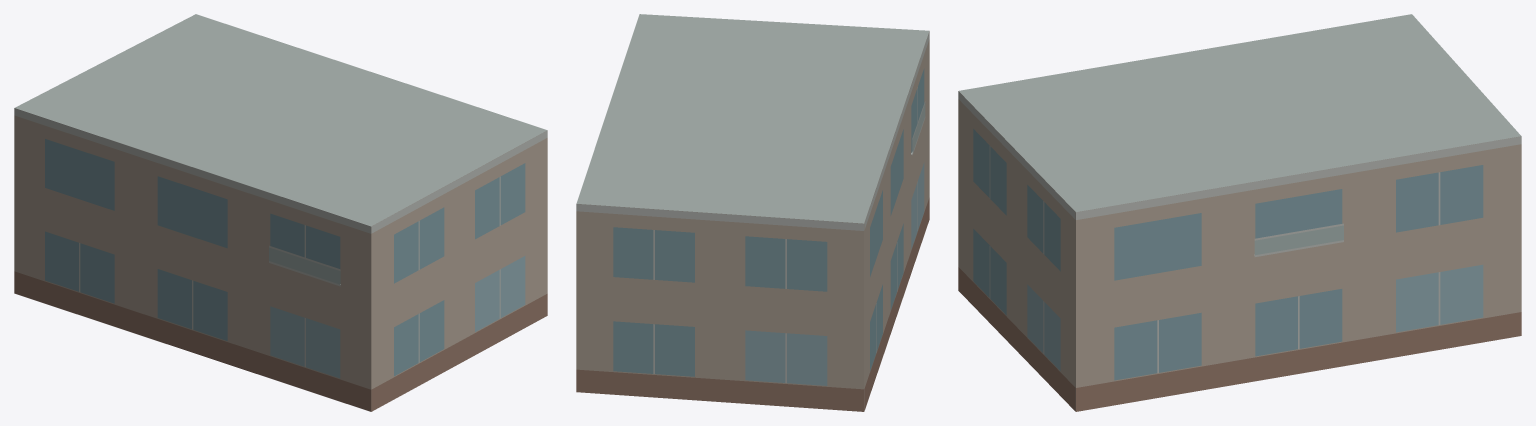
Rendered from survey-upis-33000437.glb.
3 views of the same model, side by side, from view 1: azimuth 30°, elevation 25°; view 2: azimuth 150°, elevation 25°; view 3: azimuth 270°, elevation 25° (orthographic). The views are drawn at different scales.
Visible parts, largest first — view 1: survey-upis-33000437.tmp; view 2: survey-upis-33000437.tmp; view 3: survey-upis-33000437.tmp.
Boxes of the visible parts, x1,y1,x2,y2 form: survey-upis-33000437.tmp: [14, 14, 547, 411]; survey-upis-33000437.tmp: [576, 14, 929, 411]; survey-upis-33000437.tmp: [958, 14, 1521, 411].
Bounding box in the file's own units: 13 × 6.1 × 15.6.
